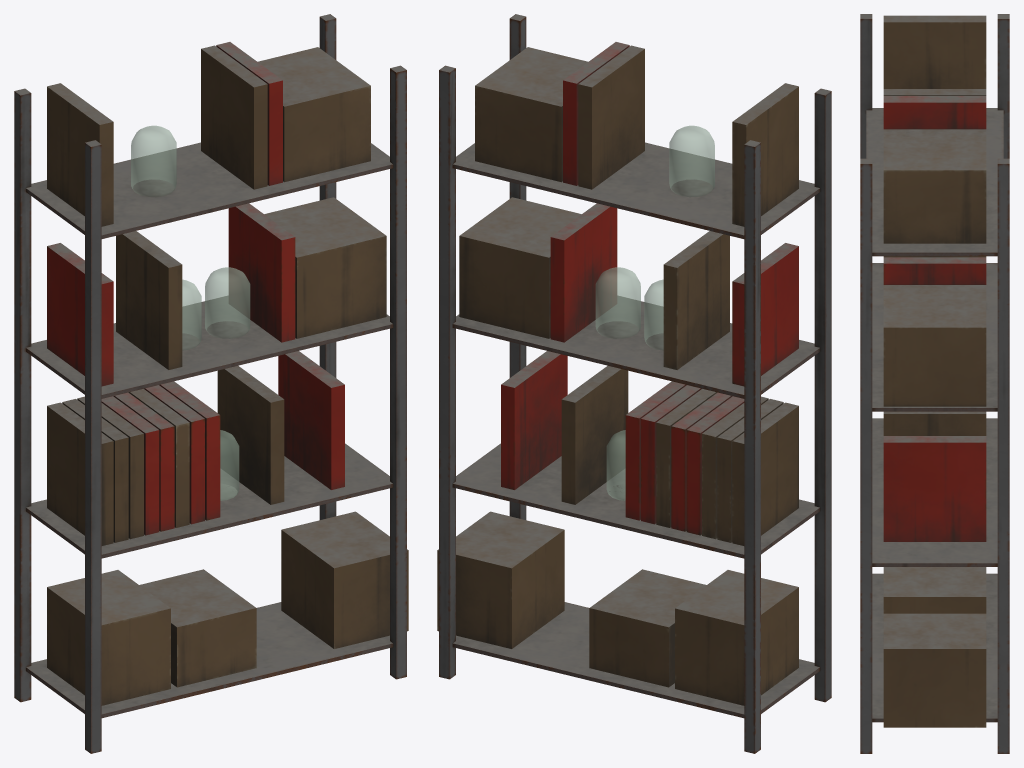
Rendered from SM_Shelf_Metal_Stocked.fbx.
3 views of the same model, side by side, from view 1: azimuth 30°, elevation 25°; view 2: azimuth 150°, elevation 25°; view 3: azimuth 270°, elevation 25° (orthographic). The views are drawn at different scales.
Visible parts, largest first — view 1: SM_Shelf_Metal_Stocked; view 2: SM_Shelf_Metal_Stocked; view 3: SM_Shelf_Metal_Stocked.
Boxes of the visible parts, x1,y1,x2,y2 form: SM_Shelf_Metal_Stocked: (14, 14, 408, 753); SM_Shelf_Metal_Stocked: (437, 14, 831, 753); SM_Shelf_Metal_Stocked: (860, 14, 1009, 753).
Bounding box in the file's own units: 1.08 × 1.93 × 0.435.
2 materials, 1 textured.
